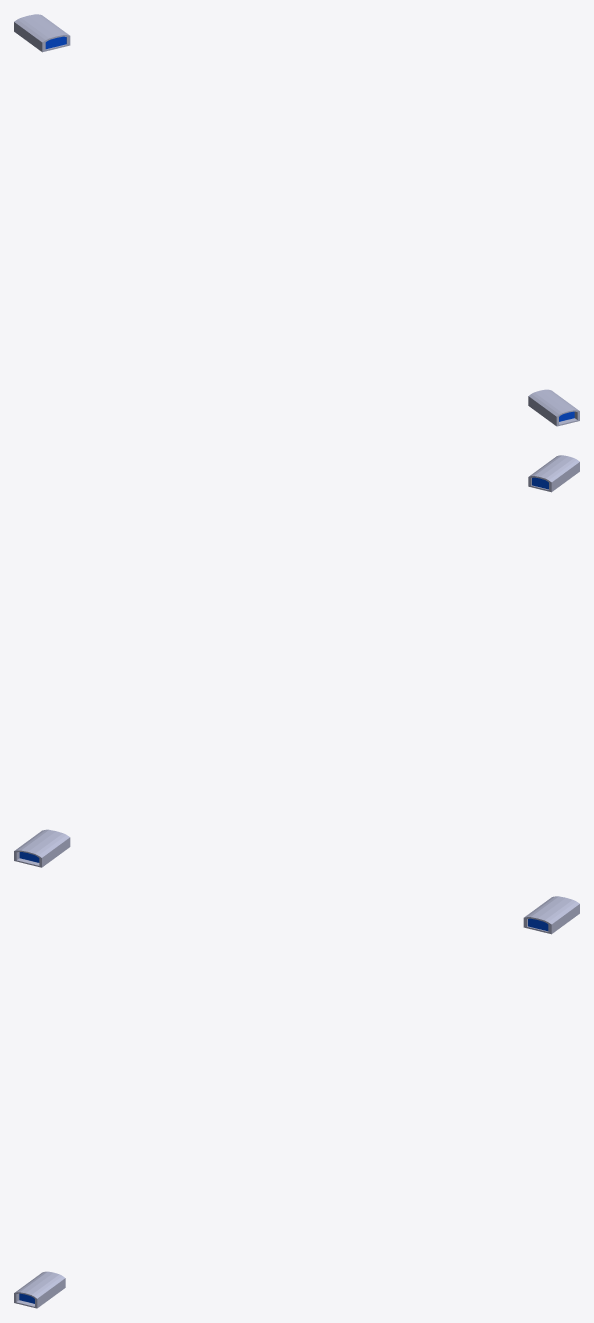
File: TrainGate.glb
The picture shows the model from 3 angles, top to bottom: view 1: azimuth 30°, elevation 25°; view 2: azimuth 150°, elevation 25°; view 3: azimuth 330°, elevation 25°; orthographic projection.
Parts seen in each view (by area): view 1: GateEnter, GateExit; view 2: GateEnter, GateExit; view 3: GateEnter, GateExit.
Boxes of the visible parts, box(x1,y1,x2,y2) form: GateEnter: box(14, 14, 70, 52); GateExit: box(528, 389, 579, 426); GateEnter: box(14, 829, 70, 867); GateExit: box(528, 455, 579, 492); GateEnter: box(523, 896, 579, 934); GateExit: box(14, 1271, 65, 1308).
Size of the model in its own units: 4.54 by 1.94 by 152.
